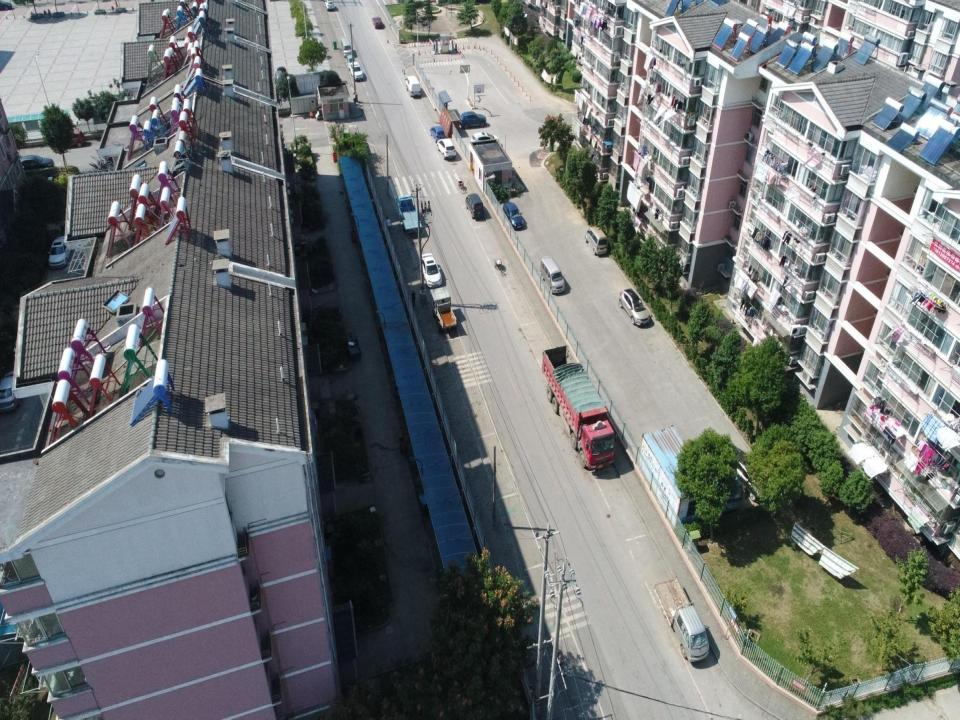car: (619, 287, 650, 327), (1, 356, 18, 414), (48, 230, 70, 270), (420, 251, 442, 288), (502, 200, 524, 231), (18, 154, 54, 172), (458, 111, 487, 129), (61, 128, 85, 148), (470, 131, 501, 146), (436, 137, 456, 160), (349, 60, 364, 82), (429, 123, 446, 142), (274, 69, 284, 89), (372, 15, 384, 29), (345, 54, 355, 70), (324, 0, 335, 10)
truck: (541, 344, 616, 470), (653, 574, 710, 662), (396, 193, 423, 232)
van: (540, 255, 566, 295), (584, 224, 609, 256), (465, 193, 484, 219), (404, 74, 422, 98), (340, 36, 352, 58)
